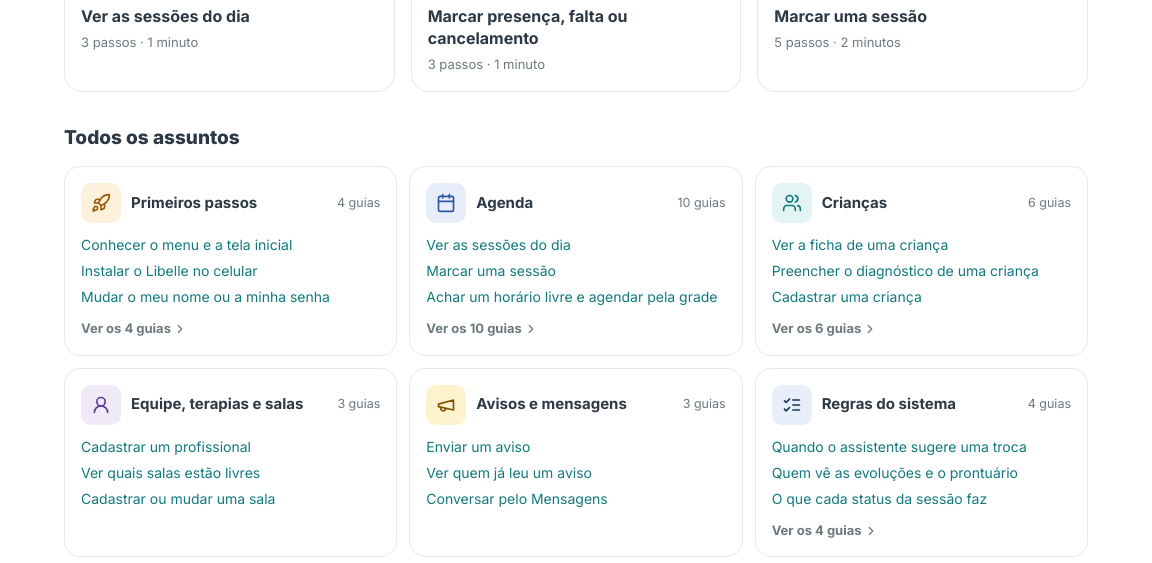
Scenario: a página de Ajuda › cada assunto abre a lista dos seus guias, e dá para voltar
(page scrolled)
Click the button "Agenda 10 guias" at (446, 203), box [426,183,726,223]
(page scrolled)
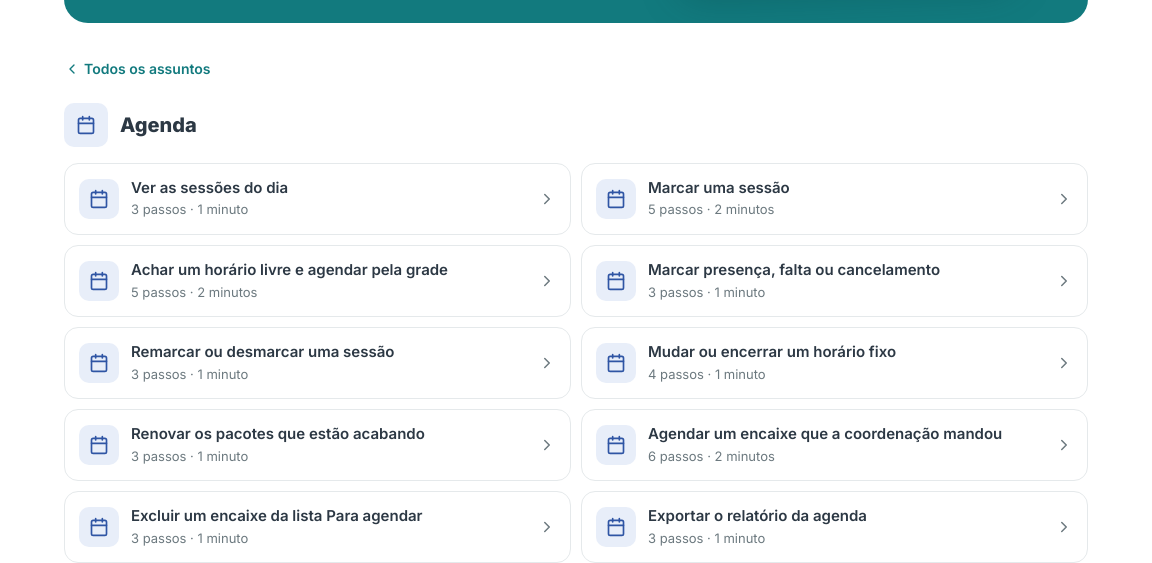
Click the button "Todos os assuntos" at (137, 69), box [64,51,210,87]
(page scrolled)
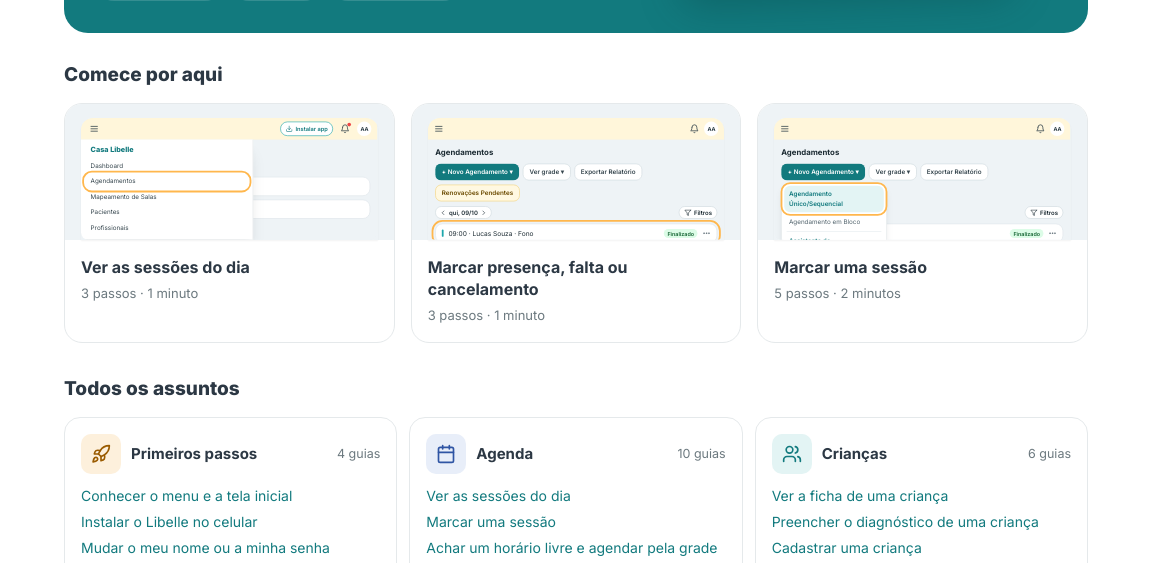
Expected: the element "Comece por aqui" is shown, [64,61,1088,347]
